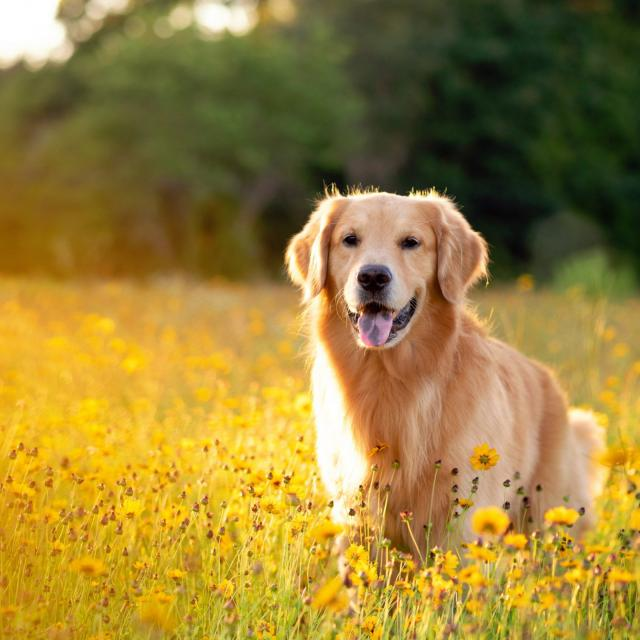Dog: (277, 170, 620, 540)
